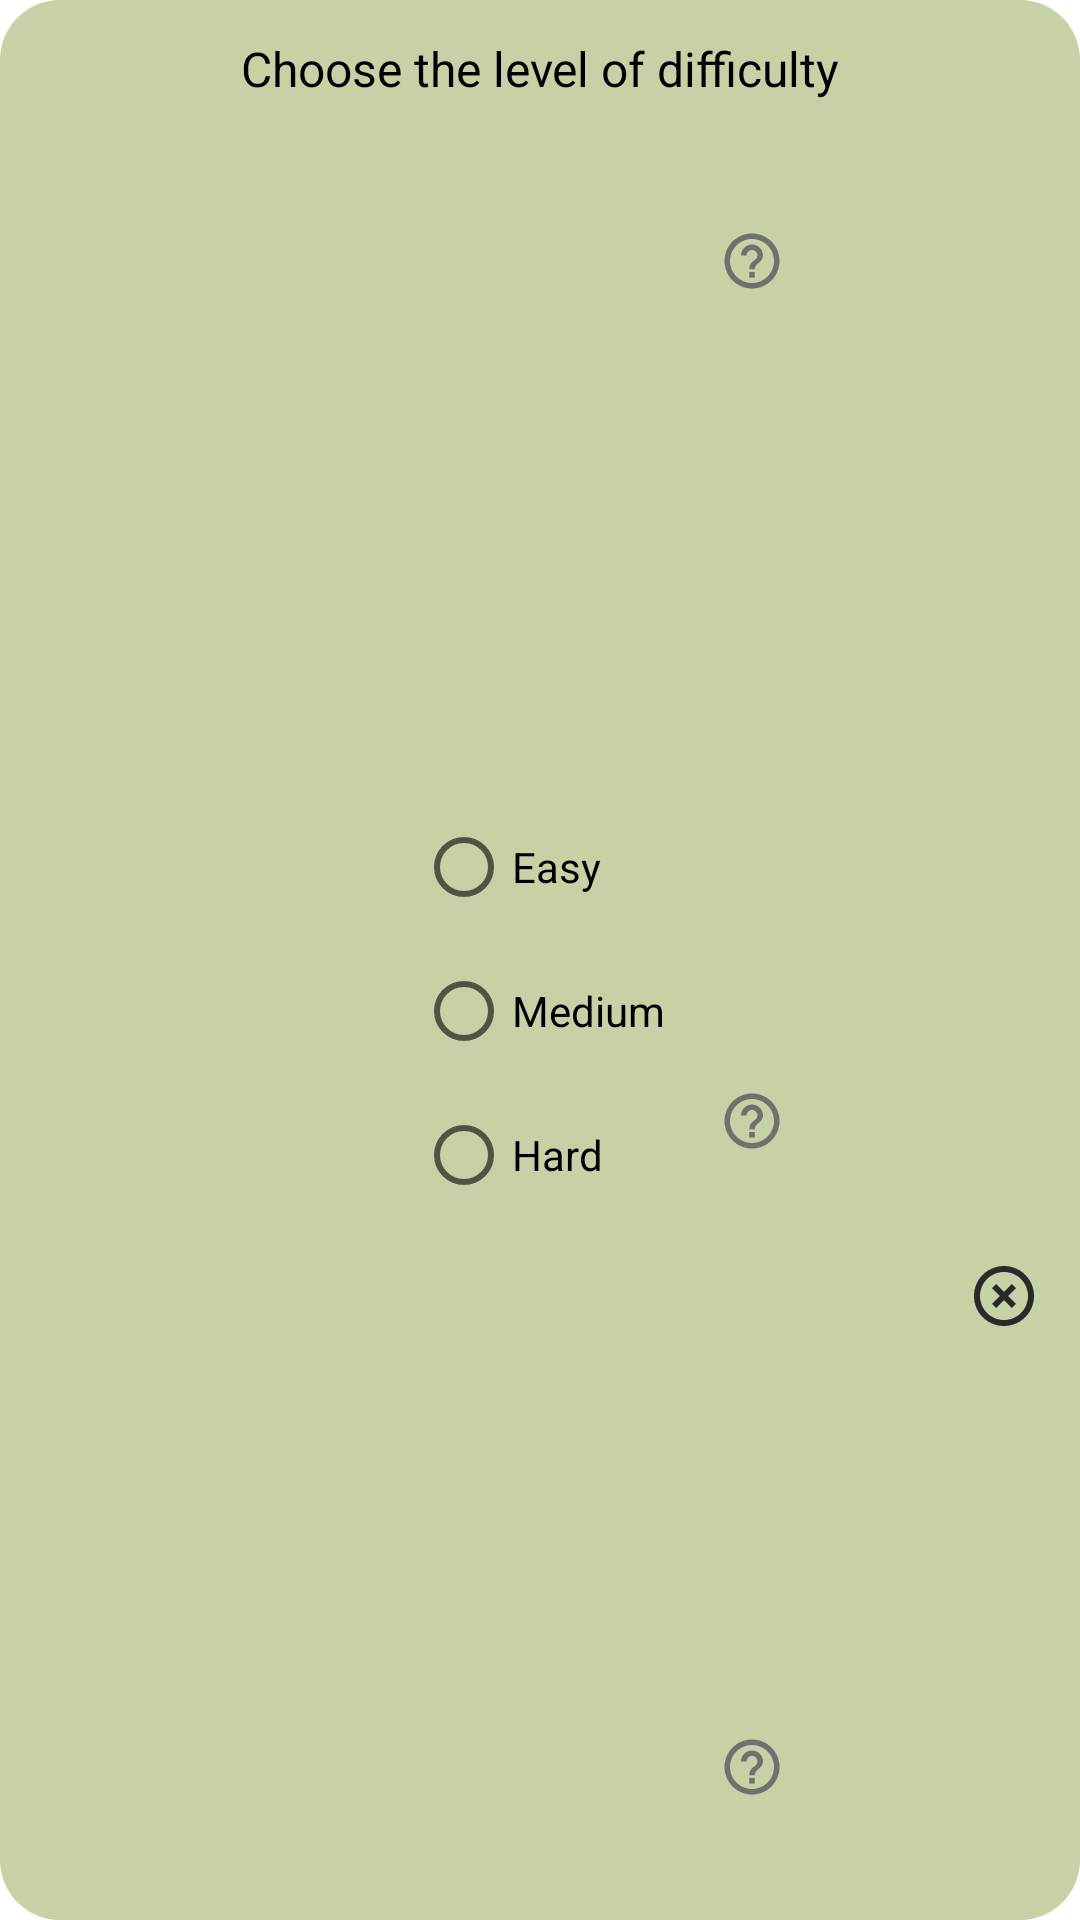

Icons on this 1080*1920 Android screen, each with the point to tap as (x=x, y=y):
close window: (x=1004, y=1296)
help: (x=752, y=261), (x=752, y=1121), (x=752, y=1767)
